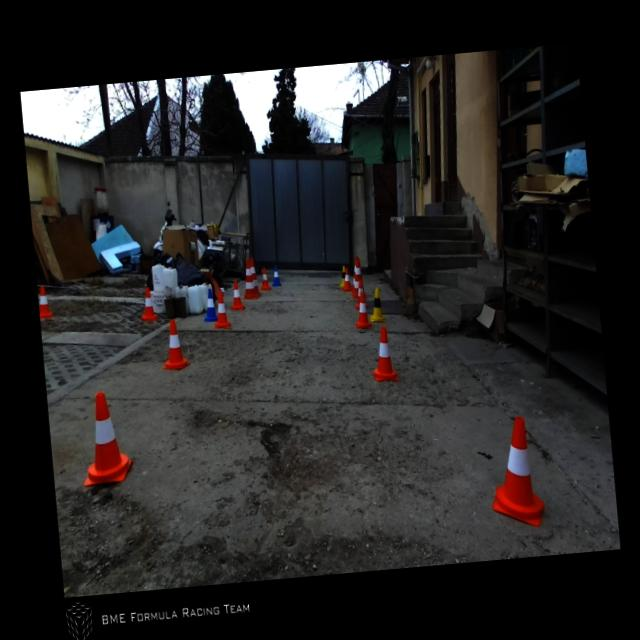blue_cone: (202, 287, 218, 322), (270, 264, 281, 285)
large_orange_cone: (239, 258, 258, 300), (348, 256, 366, 300), (248, 256, 262, 296), (348, 255, 360, 298)
orange_cone: (484, 414, 546, 530), (75, 390, 135, 486), (368, 323, 398, 382), (157, 318, 190, 371), (210, 290, 232, 329), (353, 291, 371, 329), (138, 286, 156, 321), (228, 278, 245, 310), (36, 285, 52, 318), (353, 278, 368, 308), (340, 266, 352, 290), (258, 266, 270, 290)
yellow_cone: (366, 286, 386, 323), (338, 265, 347, 287)
